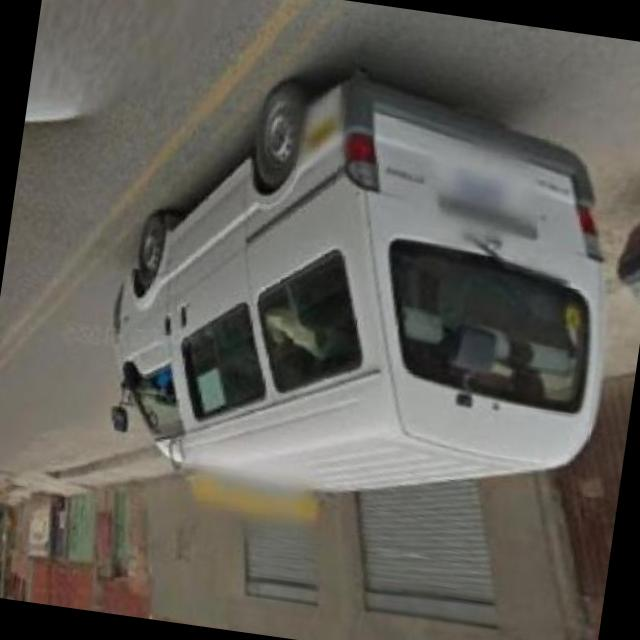car: (77, 26, 640, 534)
